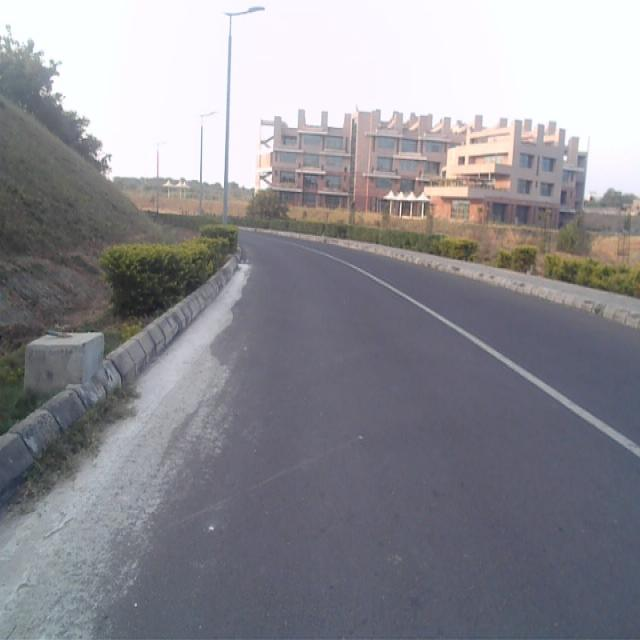lane: (0, 237, 640, 640)
